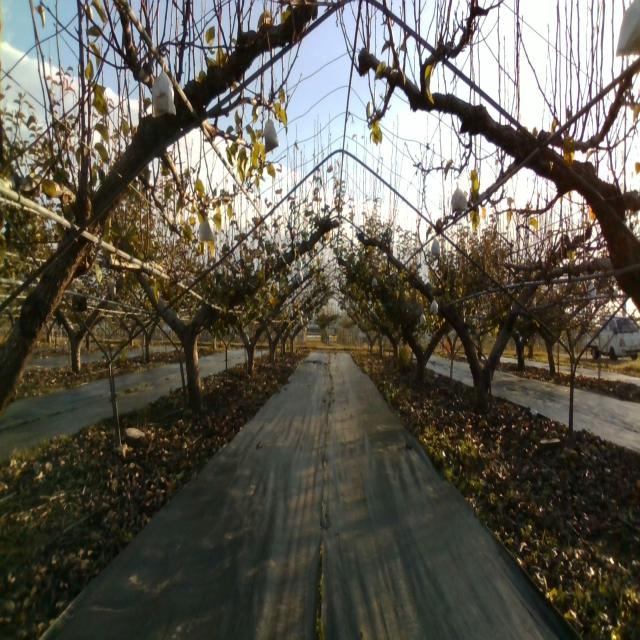pearbags: (152, 59, 176, 118), (264, 112, 280, 153), (451, 180, 468, 212), (198, 217, 216, 241)
